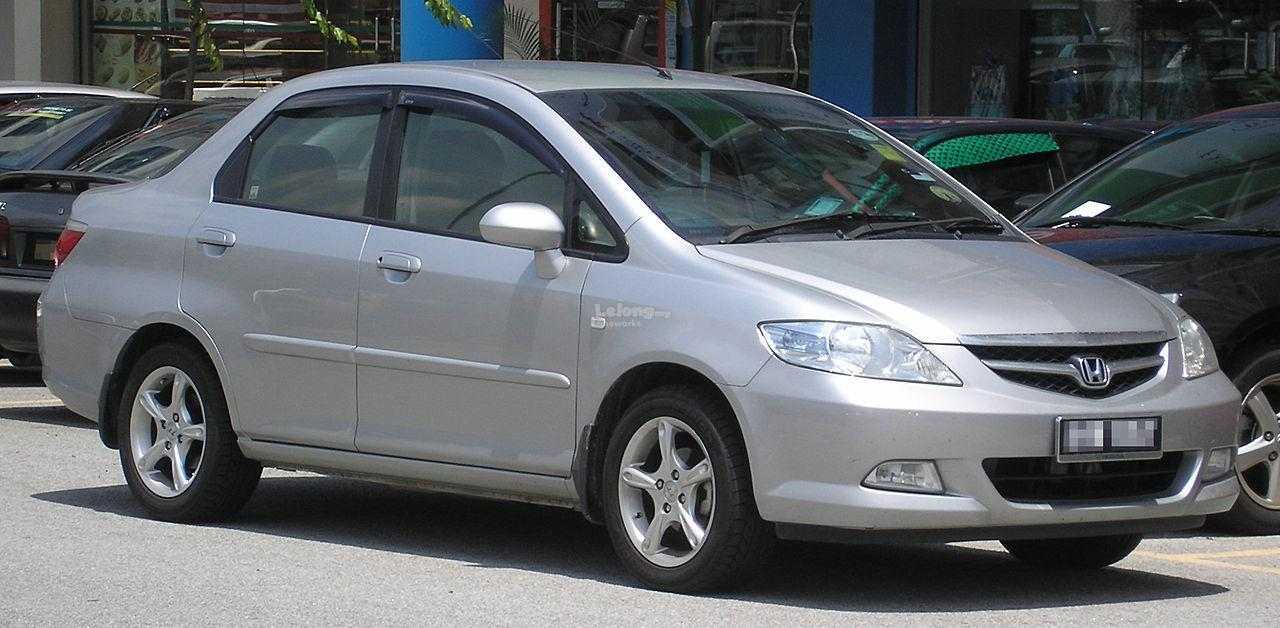windshield: (544, 92, 1048, 258)
